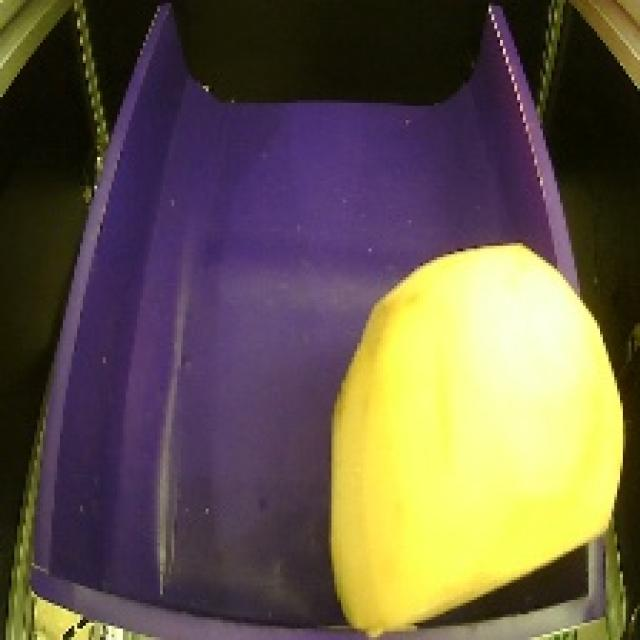full_potato: (310, 227, 632, 640)
